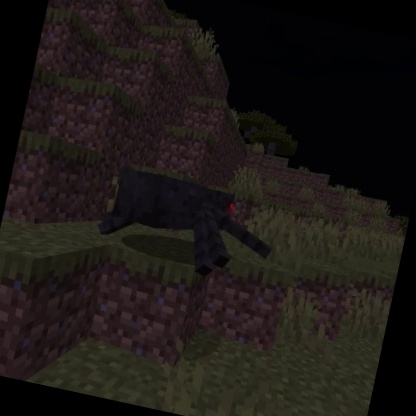spider: (86, 160, 285, 295)
